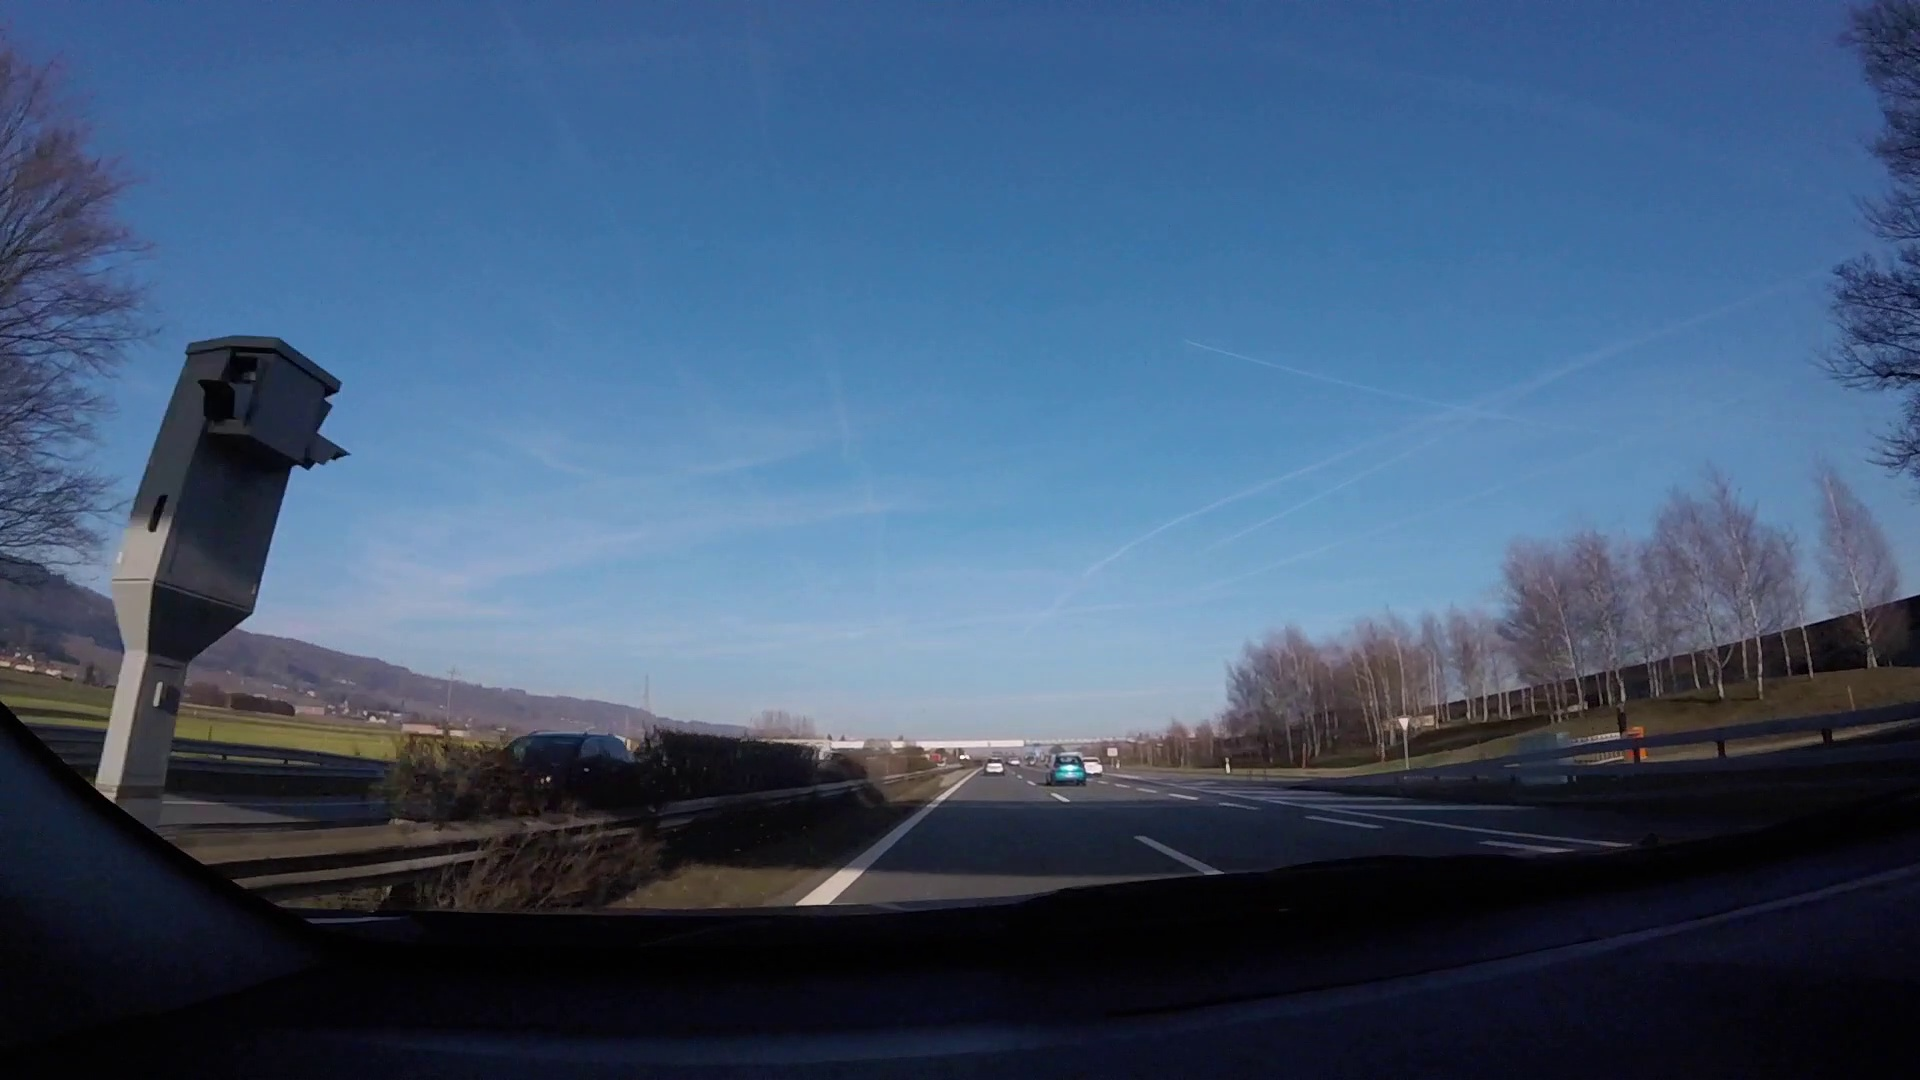radar: (100, 327, 353, 800)
